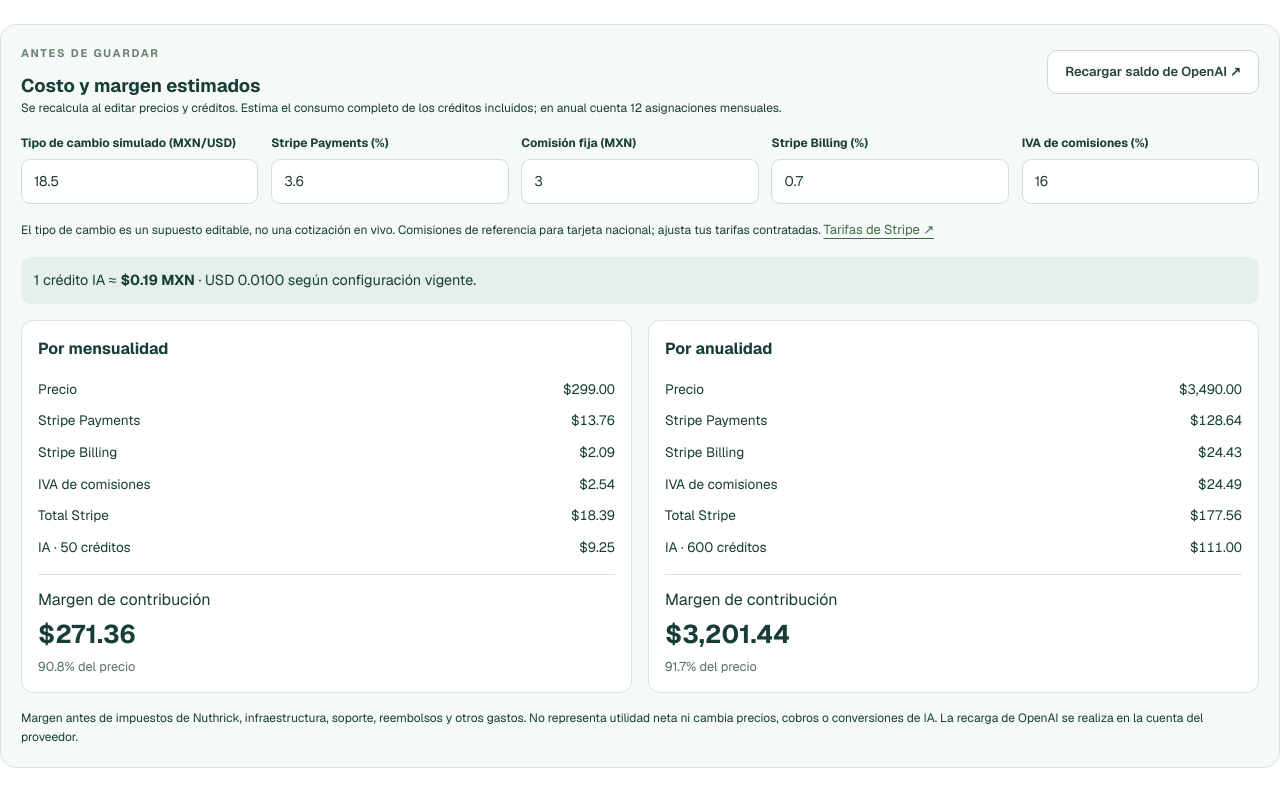
Test: reacts to price and FX edits, and links to the provider balance
Expected: the text "$271.36" is shown, [38,617,136,651]
Replace the text in the number field labelled "Tipo de cambio simulado (MXN/USD)" with "20" at (140, 182), box [21,159,258,204]
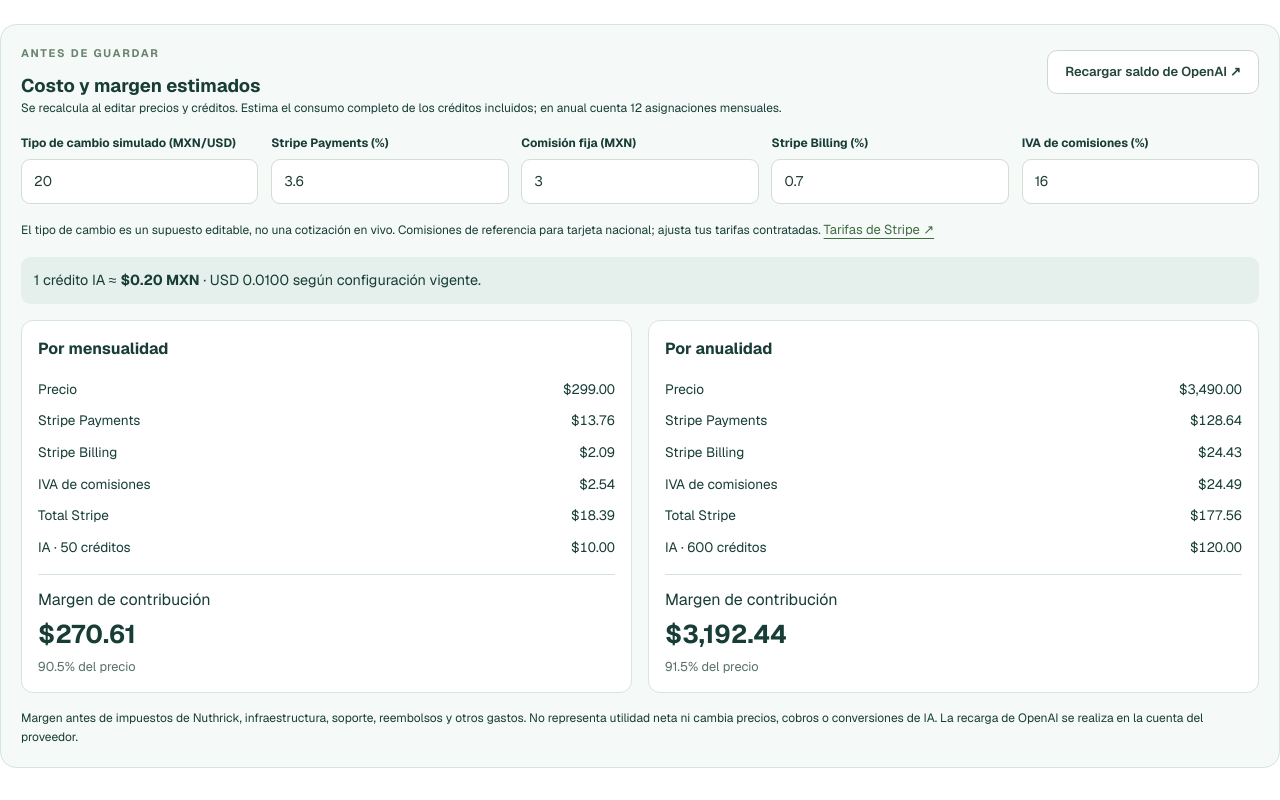
Result: the text "$270.61" is shown at [38,617,136,651]
